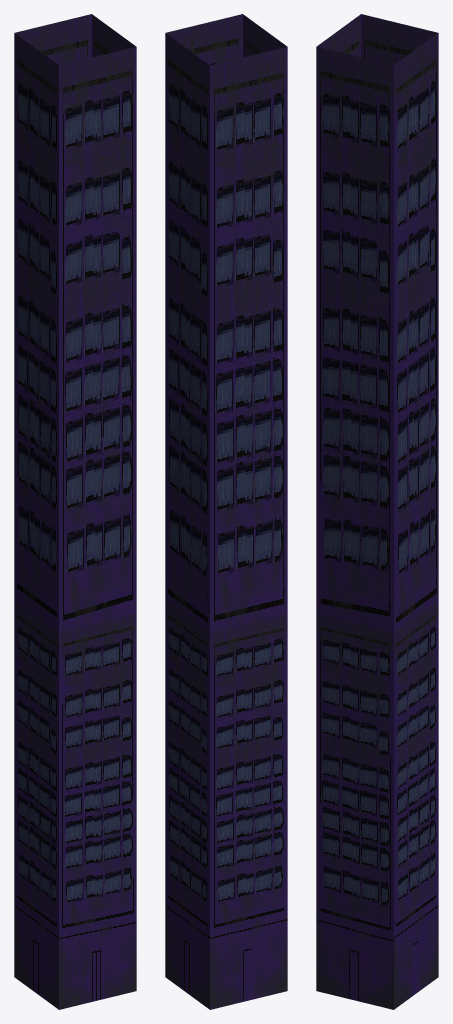
The model's file is Skyscraper.glb.
3 views of the same model, side by side, from view 1: azimuth 30°, elevation 25°; view 2: azimuth 210°, elevation 25°; view 3: azimuth 330°, elevation 25° (orthographic).
Visible parts, largest first — view 1: skyscraper-col; view 2: skyscraper-col; view 3: skyscraper-col.
Part boxes in pixels (x1,y1,x2,y2): skyscraper-col: (14,14,136,1009); skyscraper-col: (165,14,287,1009); skyscraper-col: (316,14,438,1009).
Bounding box in the file's own units: 6 × 70 × 6.
Materials: 1 (1 with a texture image).
